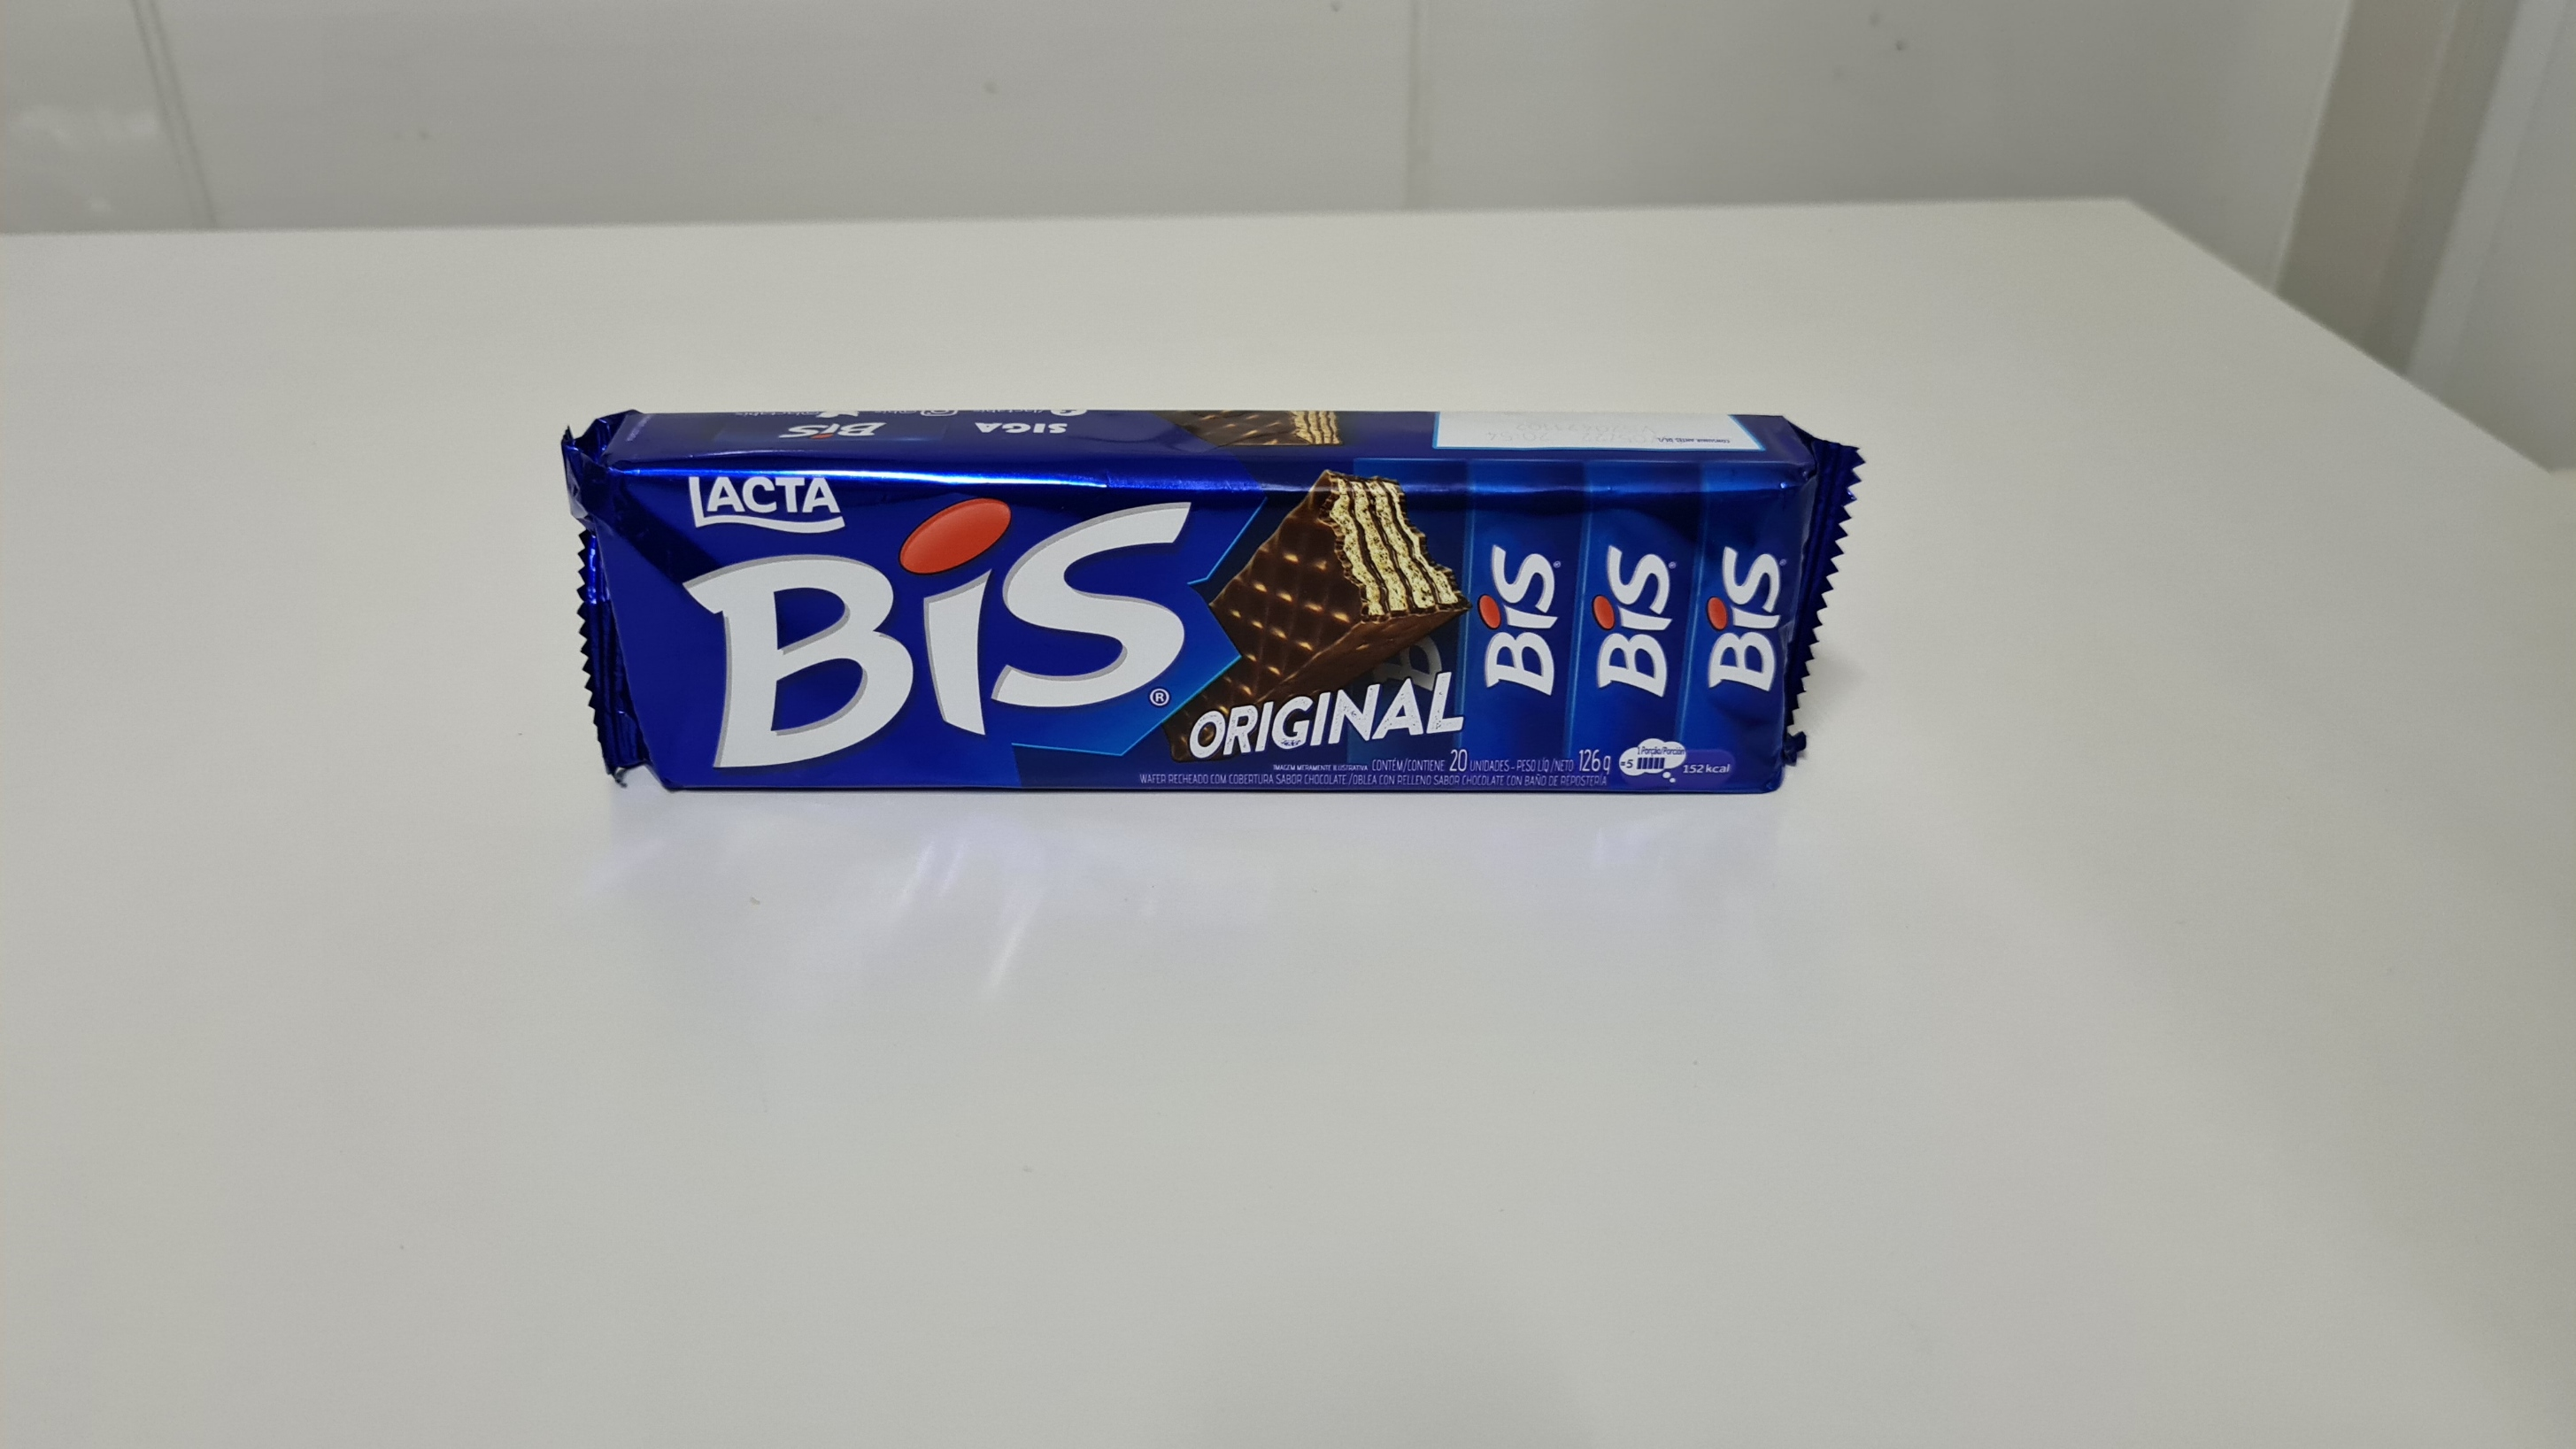Chocolat: (554, 402, 1884, 810)
